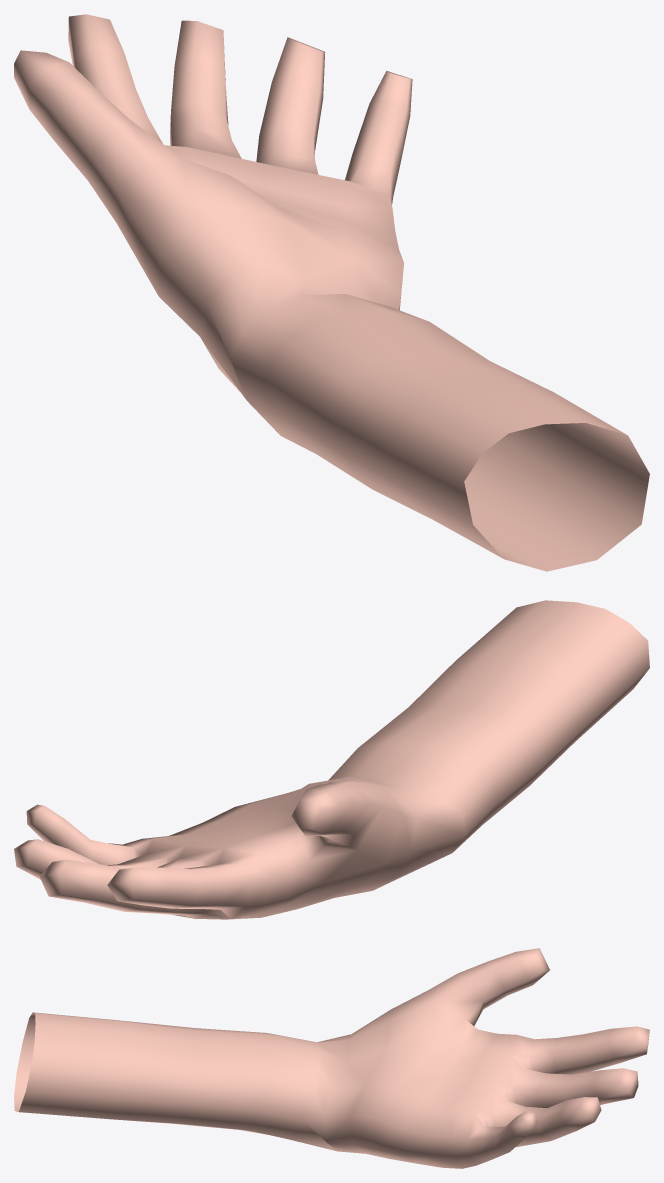
Rendered from Hand_L.fbx.
3 renders of one model, top to bottom at view 1: azimuth 30°, elevation 25°; view 2: azimuth 150°, elevation 25°; view 3: azimuth 270°, elevation 25°, orthographic. The views are drawn at different scales.
Visible parts, largest first — view 1: Hand_Left; view 2: Hand_Left; view 3: Hand_Left.
Boxes of the visible parts, x1=… form: Hand_Left: x1=14, y1=14, x2=649, y2=571; Hand_Left: x1=14, y1=600, x2=649, y2=919; Hand_Left: x1=14, y1=948, x2=649, y2=1168.
Bounding box in the file's own units: 0.1652 × 0.1072 × 0.3957.
